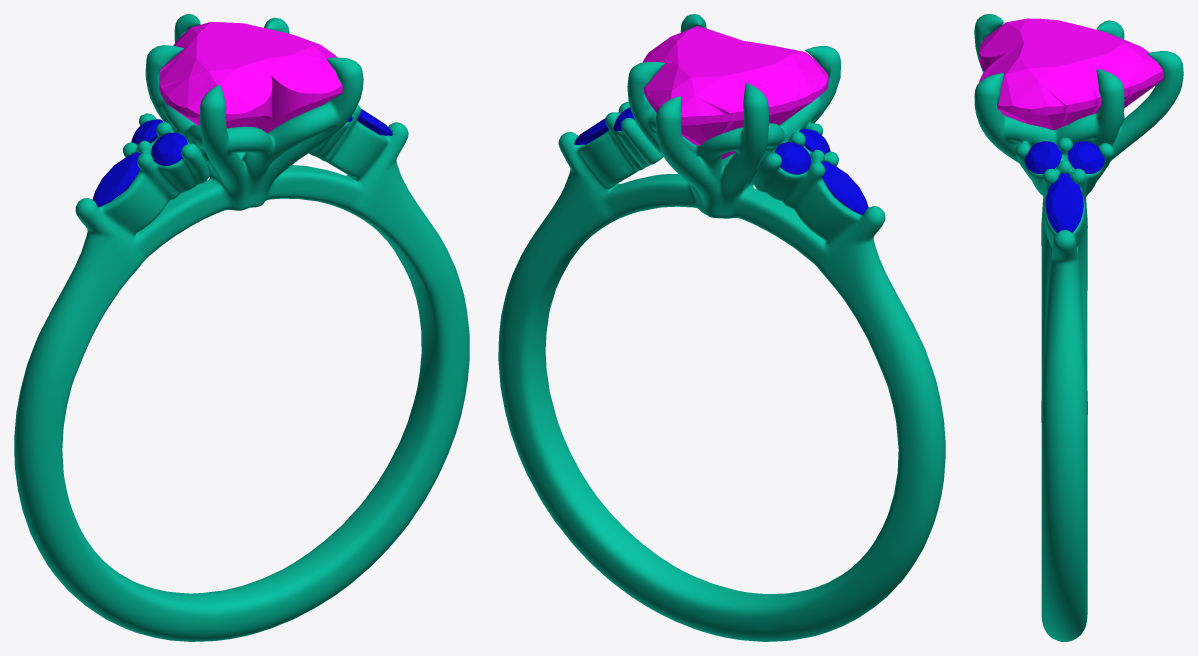
Rendered from BE1D6018_HT_200ct_RENDER.glb.
3 renders of one model, left to right at view 1: azimuth 30°, elevation 25°; view 2: azimuth 150°, elevation 25°; view 3: azimuth 270°, elevation 25°, orthographic. The views are drawn at different scales.
Parts seen in each view (by area): view 1: Metal 01, CS_Diamond_Heart, Diamond_Marquise_side.001, Diamond_Round_side.002; view 2: Metal 01, CS_Diamond_Heart, Diamond_Marquise_side.001, Diamond_Round_side.003; view 3: Metal 01, CS_Diamond_Heart, Diamond_Marquise_side, Diamond_Round_side, Diamond_Round_side.001.
Part boxes in pixels (x1,y1,x2,y2): Metal 01: [14, 14, 469, 641]; CS_Diamond_Heart: [159, 21, 342, 133]; Diamond_Marquise_side.001: [92, 152, 140, 207]; Diamond_Round_side.002: [151, 132, 187, 165]; Metal 01: [498, 14, 945, 641]; CS_Diamond_Heart: [642, 26, 828, 159]; Diamond_Marquise_side.001: [821, 161, 868, 215]; Diamond_Round_side.003: [775, 142, 811, 174]; Metal 01: [974, 14, 1183, 641]; CS_Diamond_Heart: [979, 18, 1163, 129]; Diamond_Marquise_side: [1045, 173, 1083, 232]; Diamond_Round_side: [1024, 141, 1061, 173]; Diamond_Round_side.001: [1067, 141, 1104, 173].
Size of the model in its own units: 19.93 by 24.99 by 8.25.
